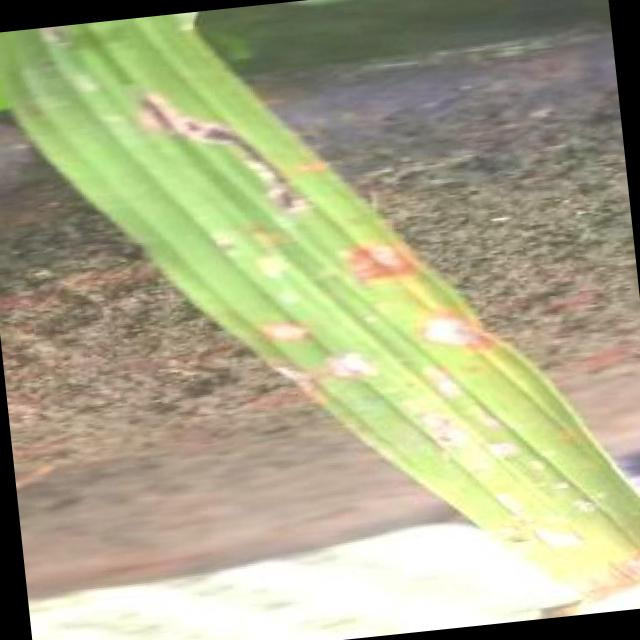Rice_Blast: (125, 59, 312, 222), (403, 286, 502, 364), (290, 329, 388, 400), (342, 218, 422, 295), (257, 290, 326, 362)
